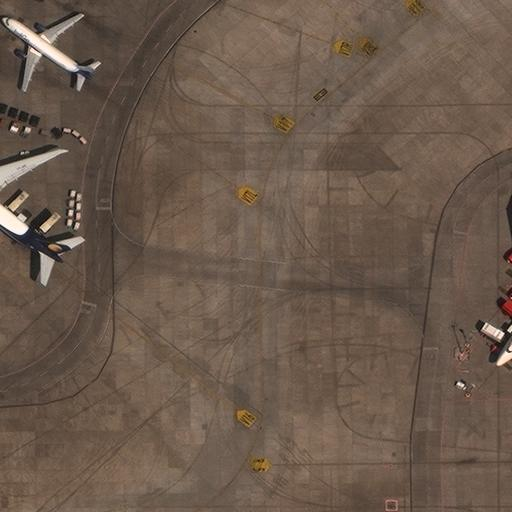Large Civil Transport: (0, 143, 62, 273), (497, 232, 511, 364)
Medium Civil Transport: (0, 13, 94, 90)
